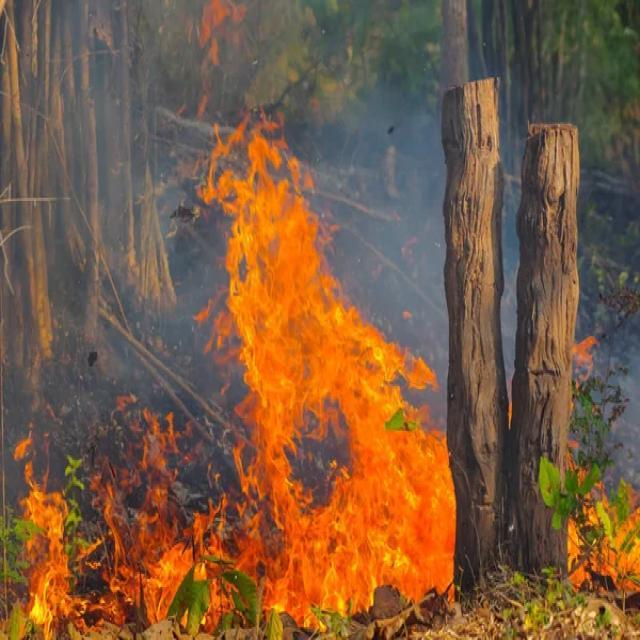Fire: (217, 346, 450, 604), (15, 426, 213, 628), (205, 120, 348, 336), (567, 406, 640, 598)
Smoke: (38, 107, 194, 410), (358, 90, 447, 333)
